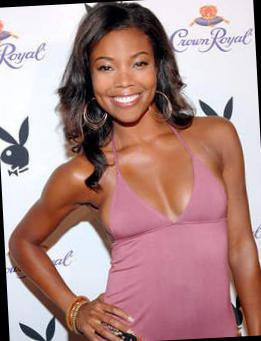Sober: (92, 28, 156, 115)
